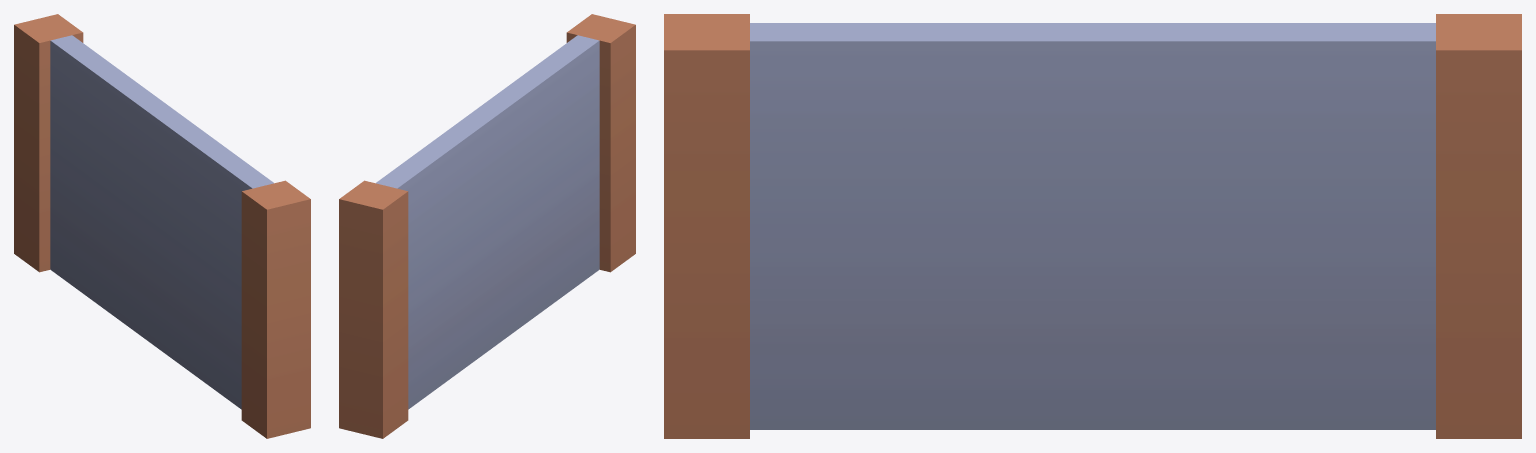
File: wall-half.glb
3 views of the same model, side by side, from view 1: azimuth 30°, elevation 25°; view 2: azimuth 150°, elevation 25°; view 3: azimuth 270°, elevation 25° (orthographic). The views are drawn at different scales.
Parts seen in each view (by area): view 1: wall-half; view 2: wall-half; view 3: wall-half.
Part boxes in pixels (x1,y1,x2,y2): wall-half: (14, 14, 310, 438); wall-half: (339, 14, 635, 438); wall-half: (664, 14, 1521, 438).
Size of the model in its own units: 0.1 by 0.5 by 1.
1 material, 1 textured.
